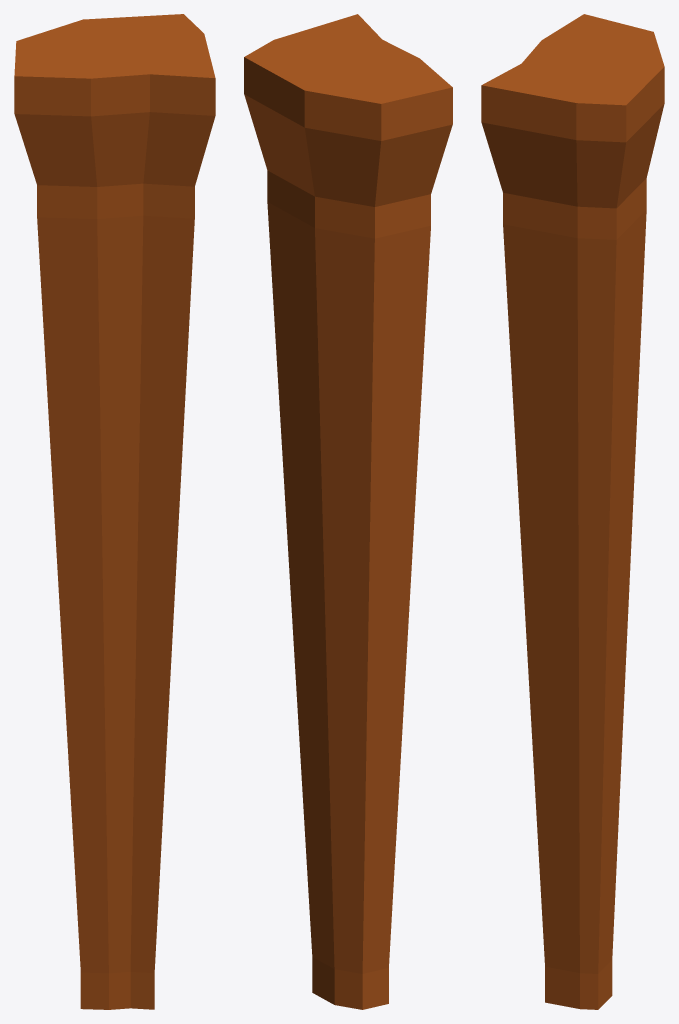
File: Woolsan.obj
The picture shows the model from 3 angles, left to right: view 1: azimuth 30°, elevation 25°; view 2: azimuth 150°, elevation 25°; view 3: azimuth 270°, elevation 25°; orthographic projection.
Visible parts, largest first — view 1: Woolsan; view 2: Woolsan; view 3: Woolsan.
Boxes of the visible parts, x1,y1,x2,y2 form: Woolsan: (14, 14, 215, 1009); Woolsan: (244, 14, 452, 1009); Woolsan: (481, 14, 664, 1009).
Bounding box in the file's own units: 10.62 × 50.45 × 9.
